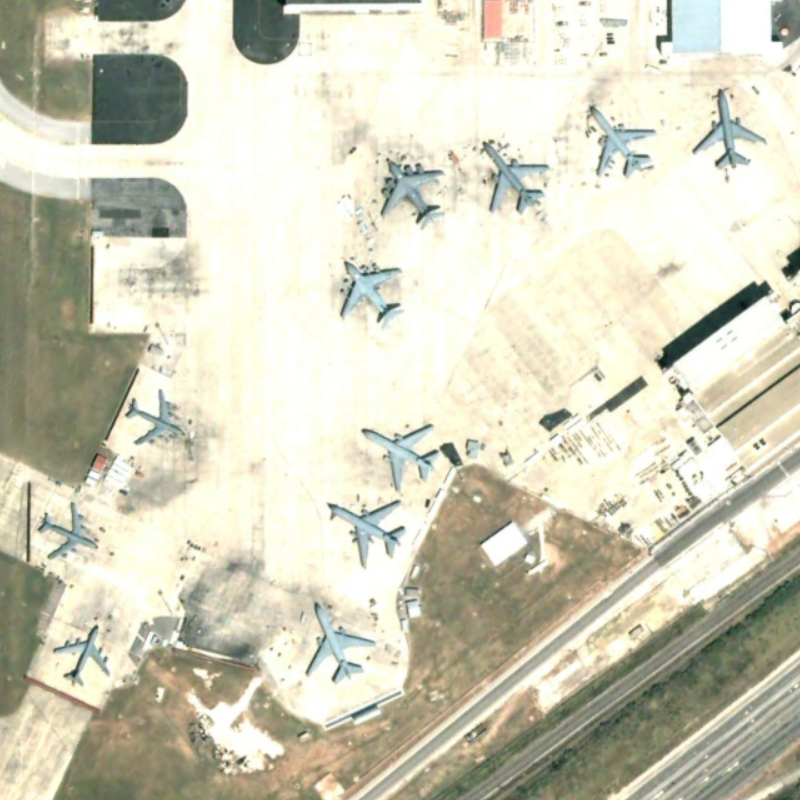A14: (29, 497, 105, 566), (49, 616, 118, 690), (123, 386, 187, 448)
A18: (684, 83, 776, 172), (298, 593, 382, 686), (321, 493, 416, 571), (582, 97, 663, 183), (360, 415, 447, 494), (476, 134, 554, 219)
A3: (368, 150, 453, 236), (330, 255, 416, 333)
